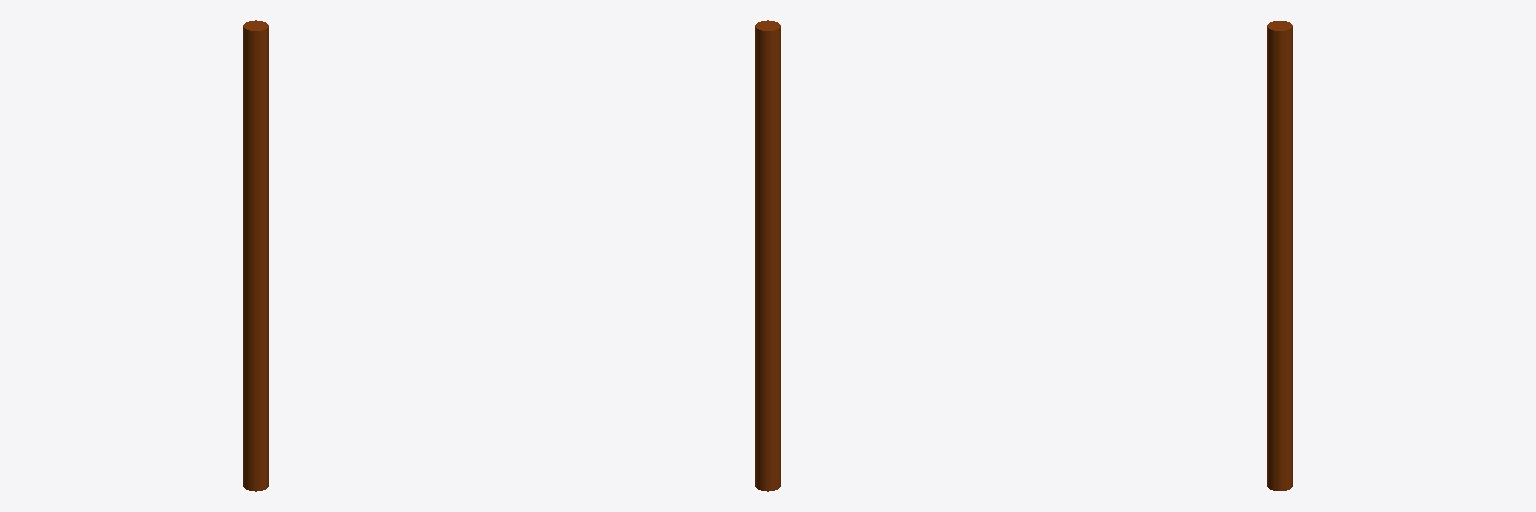
URDF robot description (leader_branch):
<?xml version="1.0"?>
<robot name="leader_branch">
  <link name="base_link">
    <visual>
      <geometry>
        <cylinder length="1.6" radius="0.04"/>
      </geometry>
      <material name="brown">
        <color rgba="0.545 0.271 0.075 1"/>
      </material>
    </visual>
    <collision>
      <geometry>
        <cylinder length="1.6" radius="0.04"/>
      </geometry>
    </collision>
  </link>
</robot>

--- Facts derived from the render (not from the file) ---
The picture shows the robot from 3 angles, left to right: view 1: azimuth 30°, elevation 25°; view 2: azimuth 150°, elevation 25°; view 3: azimuth 270°, elevation 25°; orthographic projection.
Robot: leader_branch — 1 links, 0 joints (none); root link base_link; default pose: all joints at 0.
Visible links, largest first — view 1: base_link; view 2: base_link; view 3: base_link.
Boxes of the visible links, <box> form: base_link: <box>243,20,268,491</box>; base_link: <box>755,20,780,491</box>; base_link: <box>1267,21,1292,490</box>.
Bounding box of the posed robot: 0.08 × 0.08 × 1.6 m (x, y, z).
Geometry: primitives only (box / cylinder / sphere), no mesh files.